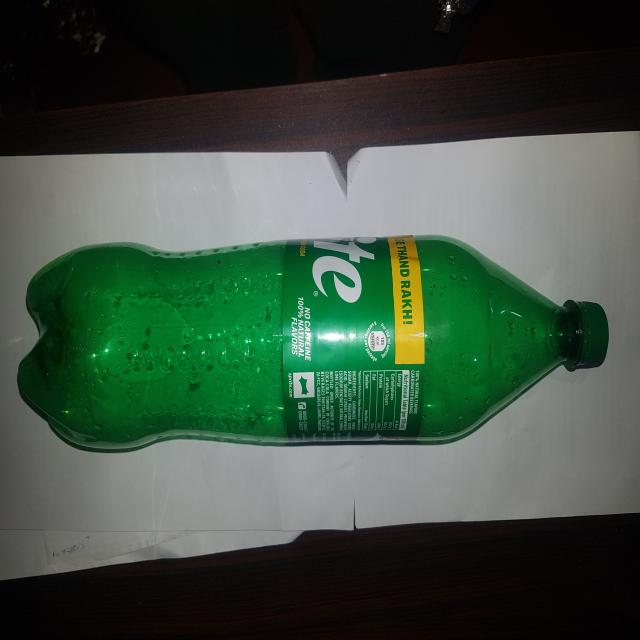general: (17, 232, 609, 453)
